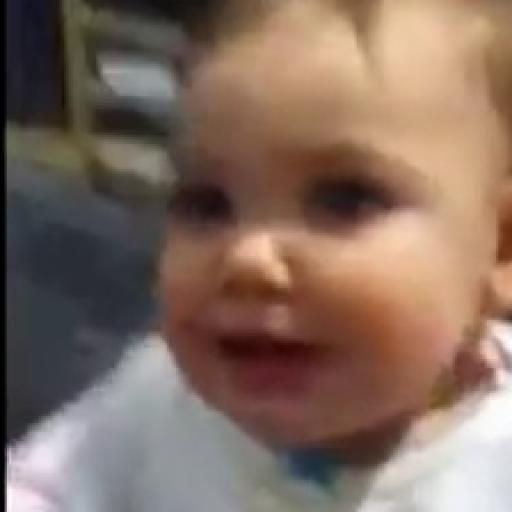Autism: (118, 30, 512, 464)
